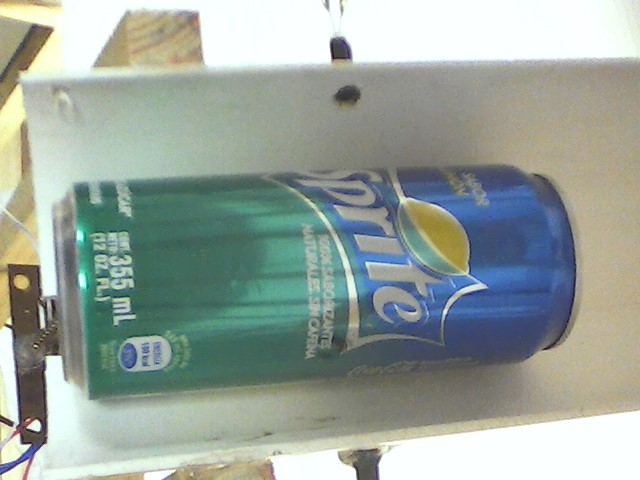lata: (49, 159, 589, 407)
